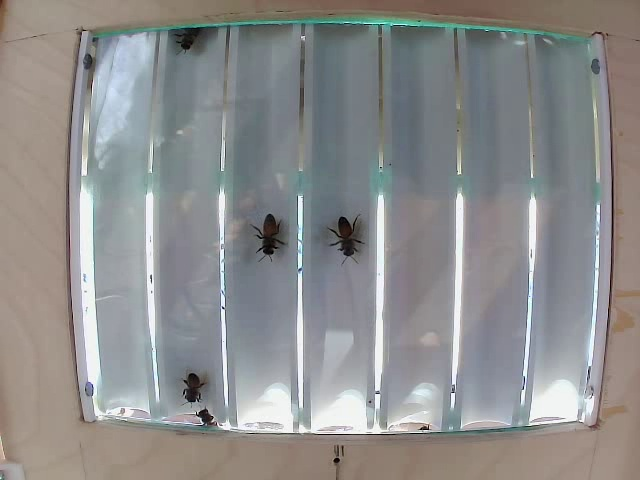bee: (176, 23, 219, 63), (334, 216, 365, 268), (168, 361, 206, 397), (248, 221, 278, 264)
